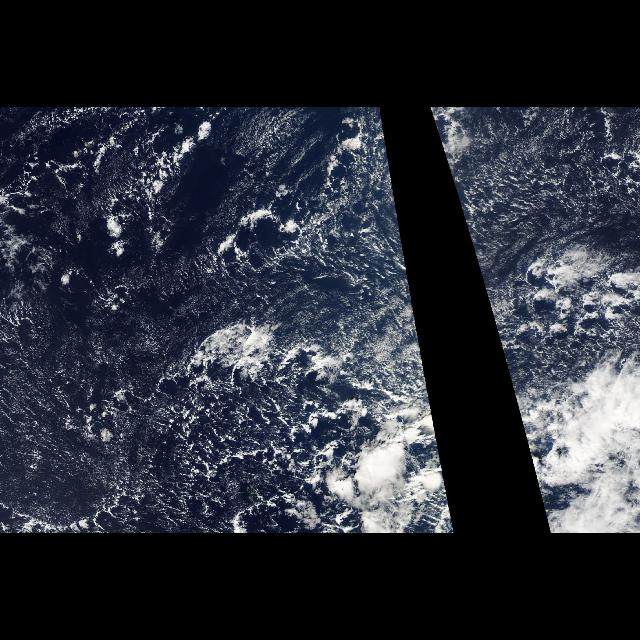Gravel: (0, 112, 426, 534), (429, 112, 636, 378)
Sugar: (434, 108, 640, 246), (136, 262, 420, 346)
